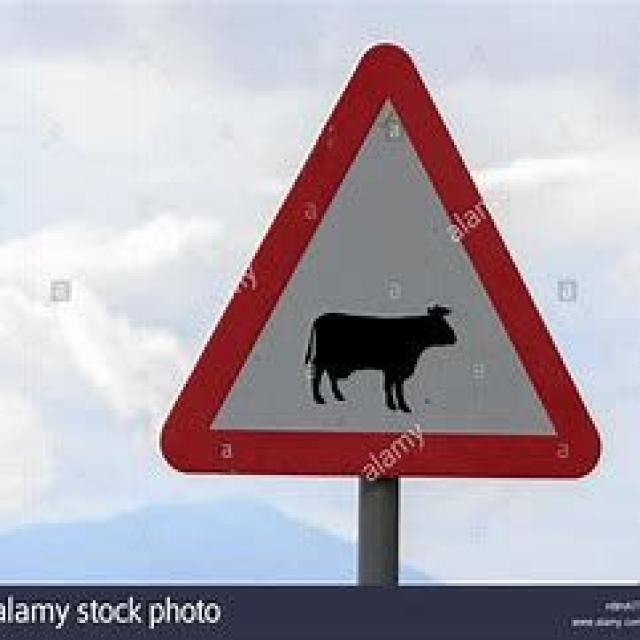CATTLE: (156, 39, 602, 484)
